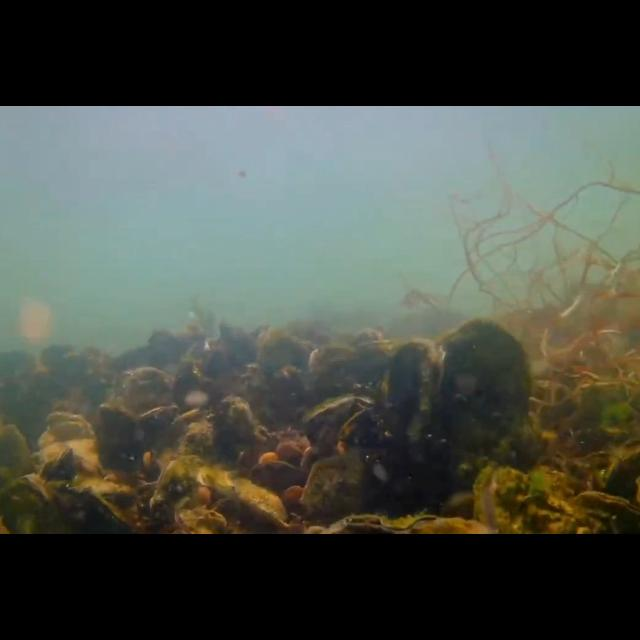Oyster-Closed: (152, 454, 204, 530), (44, 446, 74, 482)
Oyster-Indeterminate: (443, 316, 531, 444), (387, 338, 445, 446), (302, 454, 368, 528), (94, 403, 144, 475), (232, 478, 290, 524), (0, 426, 36, 500), (218, 394, 258, 460)
Oyster-Open: (302, 390, 384, 460), (169, 407, 219, 451), (46, 412, 92, 440)
